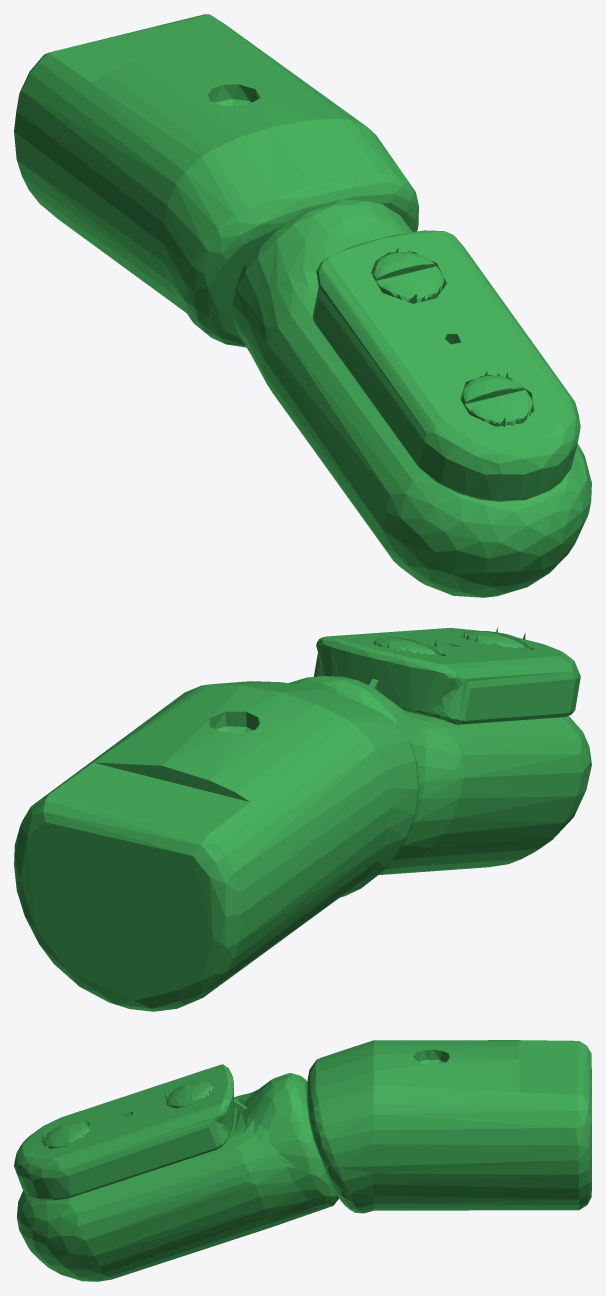
File: biotac_decimated.dae
The picture shows the model from 3 angles, top to bottom: view 1: azimuth 30°, elevation 25°; view 2: azimuth 150°, elevation 25°; view 3: azimuth 270°, elevation 25°; orthographic projection. The views are drawn at different scales.
Visible parts, largest first — view 1: node0; view 2: node0; view 3: node0.
Part boxes in pixels (<box>): node0: <box>14,14,591,597</box>; node0: <box>14,627,591,1011</box>; node0: <box>14,1040,591,1281</box>.
Bounding box in the file's own units: 0.0063 × 0.00824 × 0.0198.
